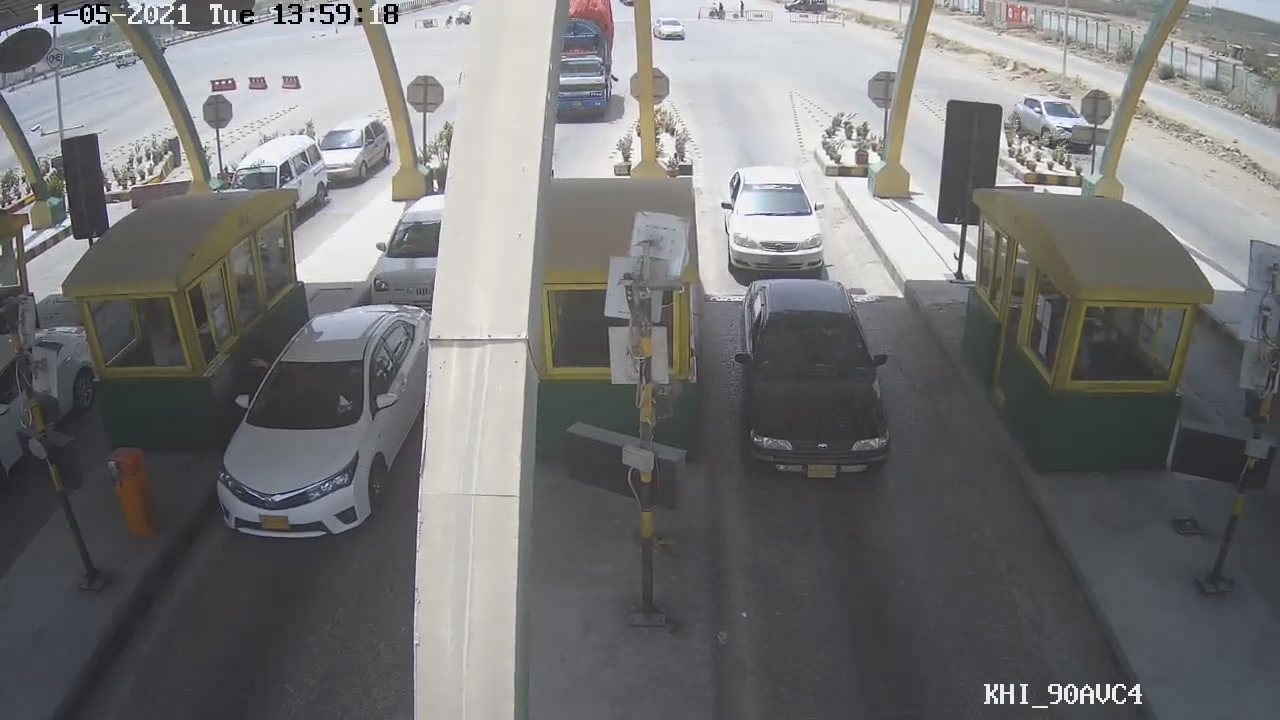F1: (730, 277, 904, 492), (718, 164, 829, 275)
